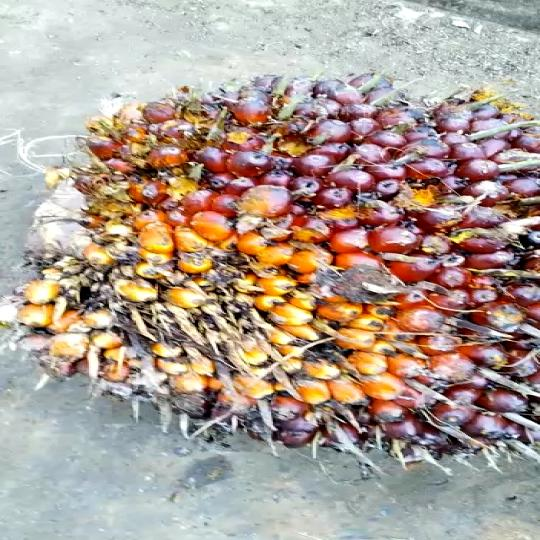masak: (15, 73, 540, 466)
